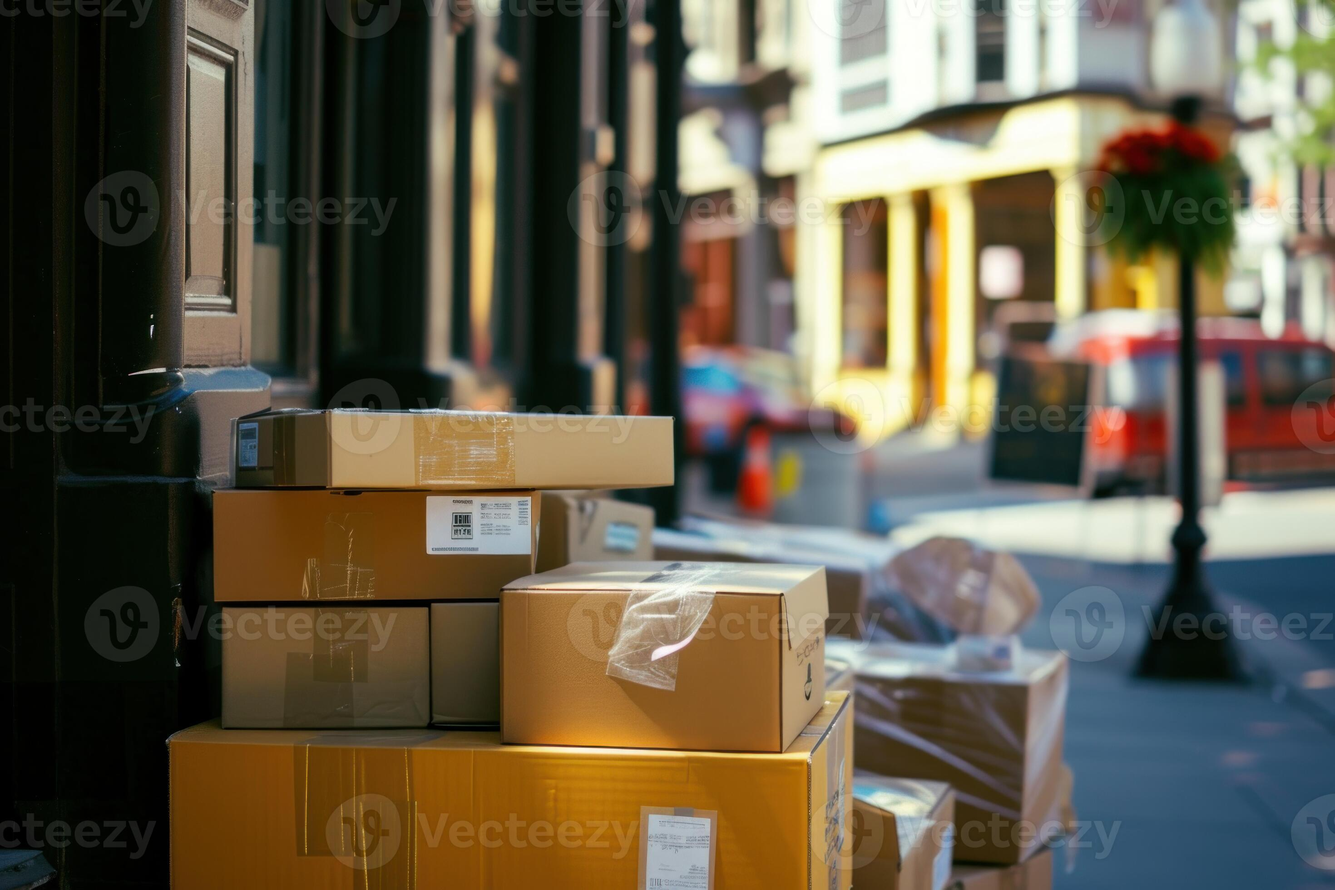DeliveryBox: (121, 713, 940, 890), (476, 552, 831, 755), (165, 479, 568, 622), (198, 395, 694, 498), (186, 590, 445, 751)
